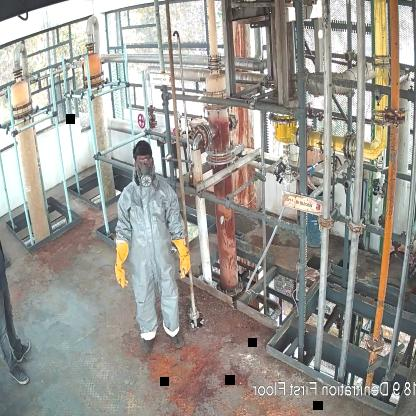goggles: (136, 156, 152, 167)
mask: (136, 166, 154, 190)
